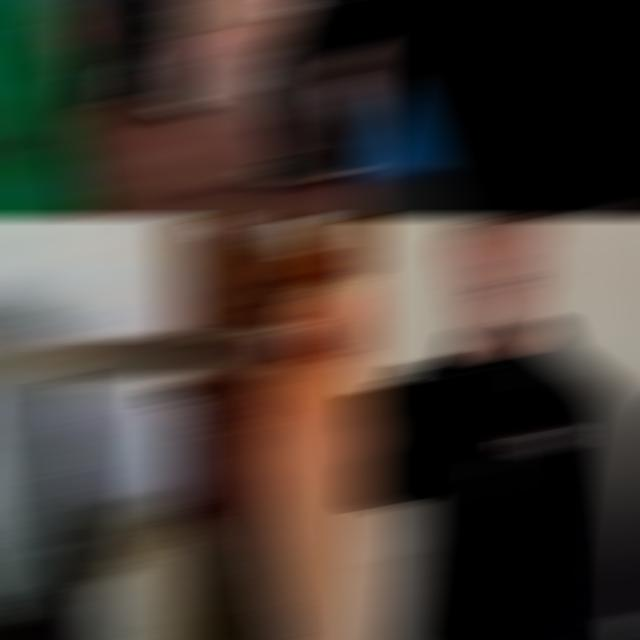Knife_Handle: (0, 243, 376, 425), (352, 2, 580, 106)
